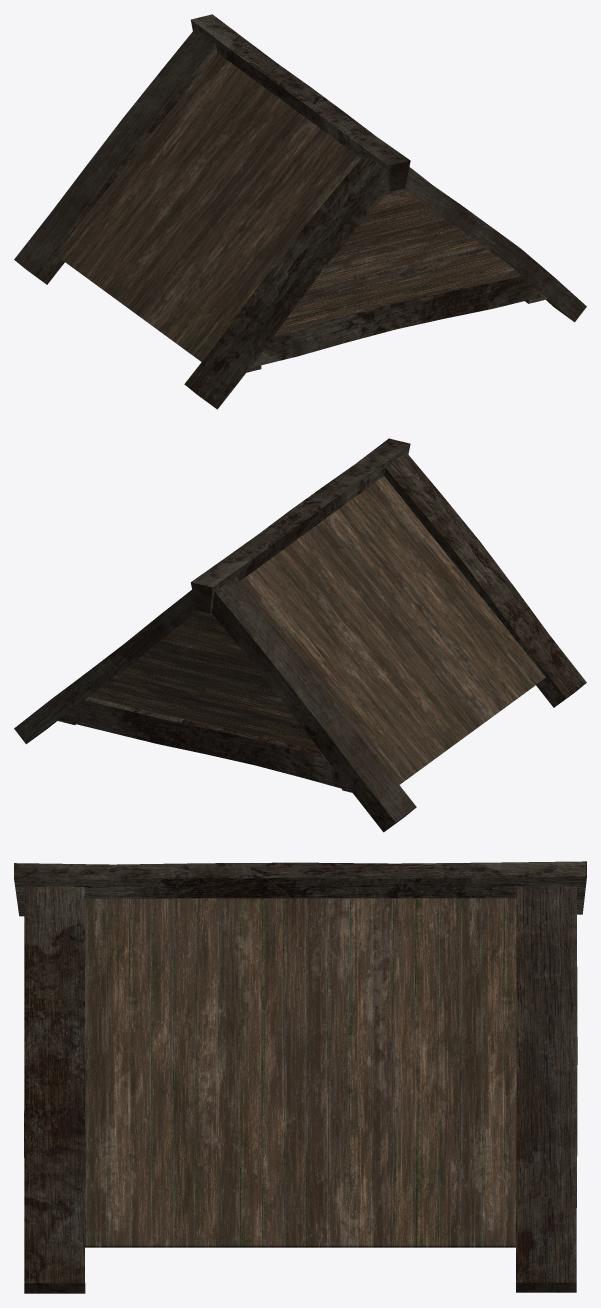
File: WoodRoof2.fbx
3 views of the same model, one above another, from view 1: azimuth 30°, elevation 25°; view 2: azimuth 150°, elevation 25°; view 3: azimuth 270°, elevation 25° (orthographic). The views are drawn at different scales.
Visible parts, largest first — view 1: Wood Roof; view 2: Wood Roof; view 3: Wood Roof.
Part boxes in pixels (x1=…): Wood Roof: x1=14, y1=14, x2=586, y2=409; Wood Roof: x1=14, y1=438, x2=586, y2=832; Wood Roof: x1=14, y1=861, x2=586, y2=1293.
Bounding box in the file's own units: 511 × 264 × 459.
